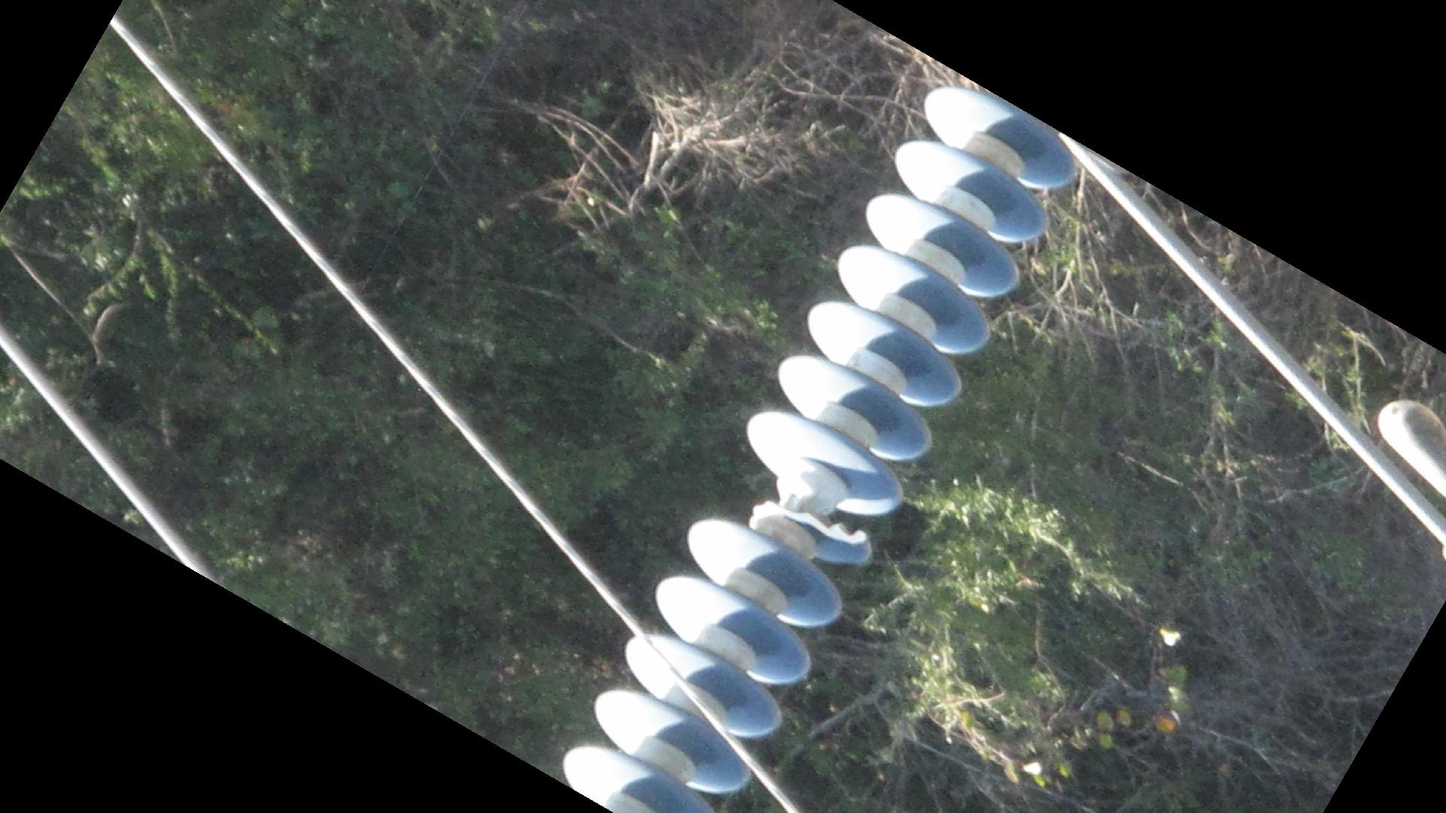insulator: (557, 81, 1092, 813)
insulator_breakage: (741, 497, 873, 554)
